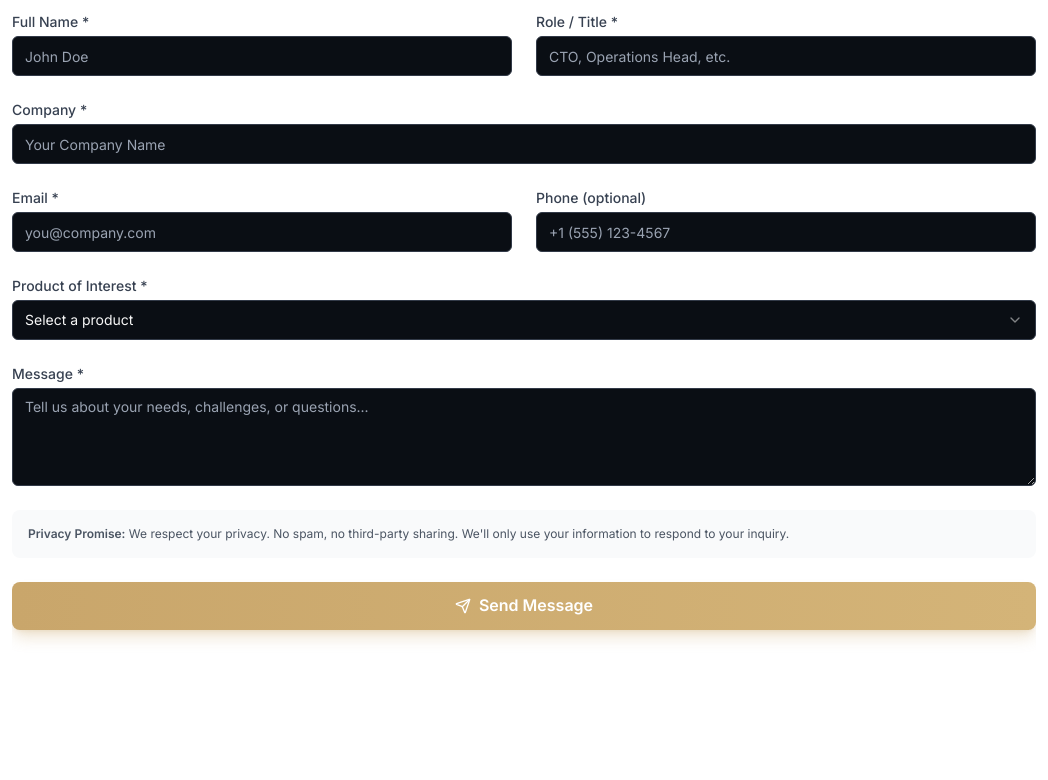
Test case: ContactForm › displays validation errors for required fields
This screenshot has width=1048, height=780.
Click the button "Send Message" at (524, 606), box [12,582,1036,630]
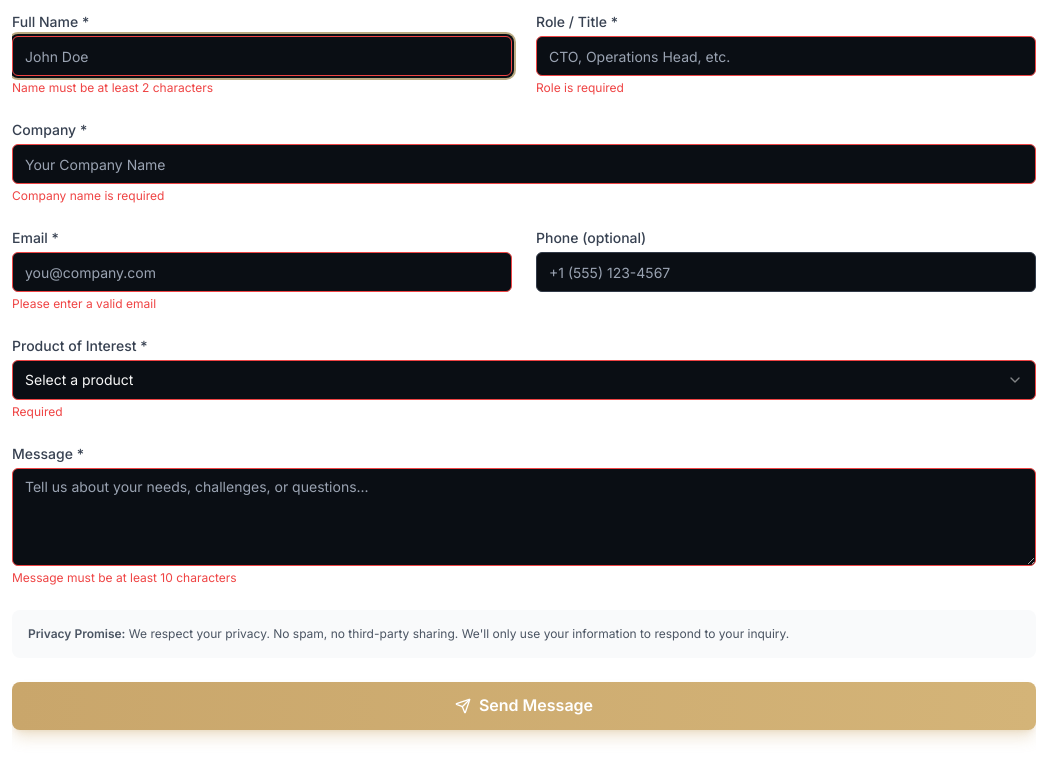
Check: the text "Name must be at least 2 characters" is shown, box [12,80,213,95]
Check: the text "Role is required" is shown, box [536,80,624,95]
Check: the text "Company name is required" is shown, box [12,188,164,203]
